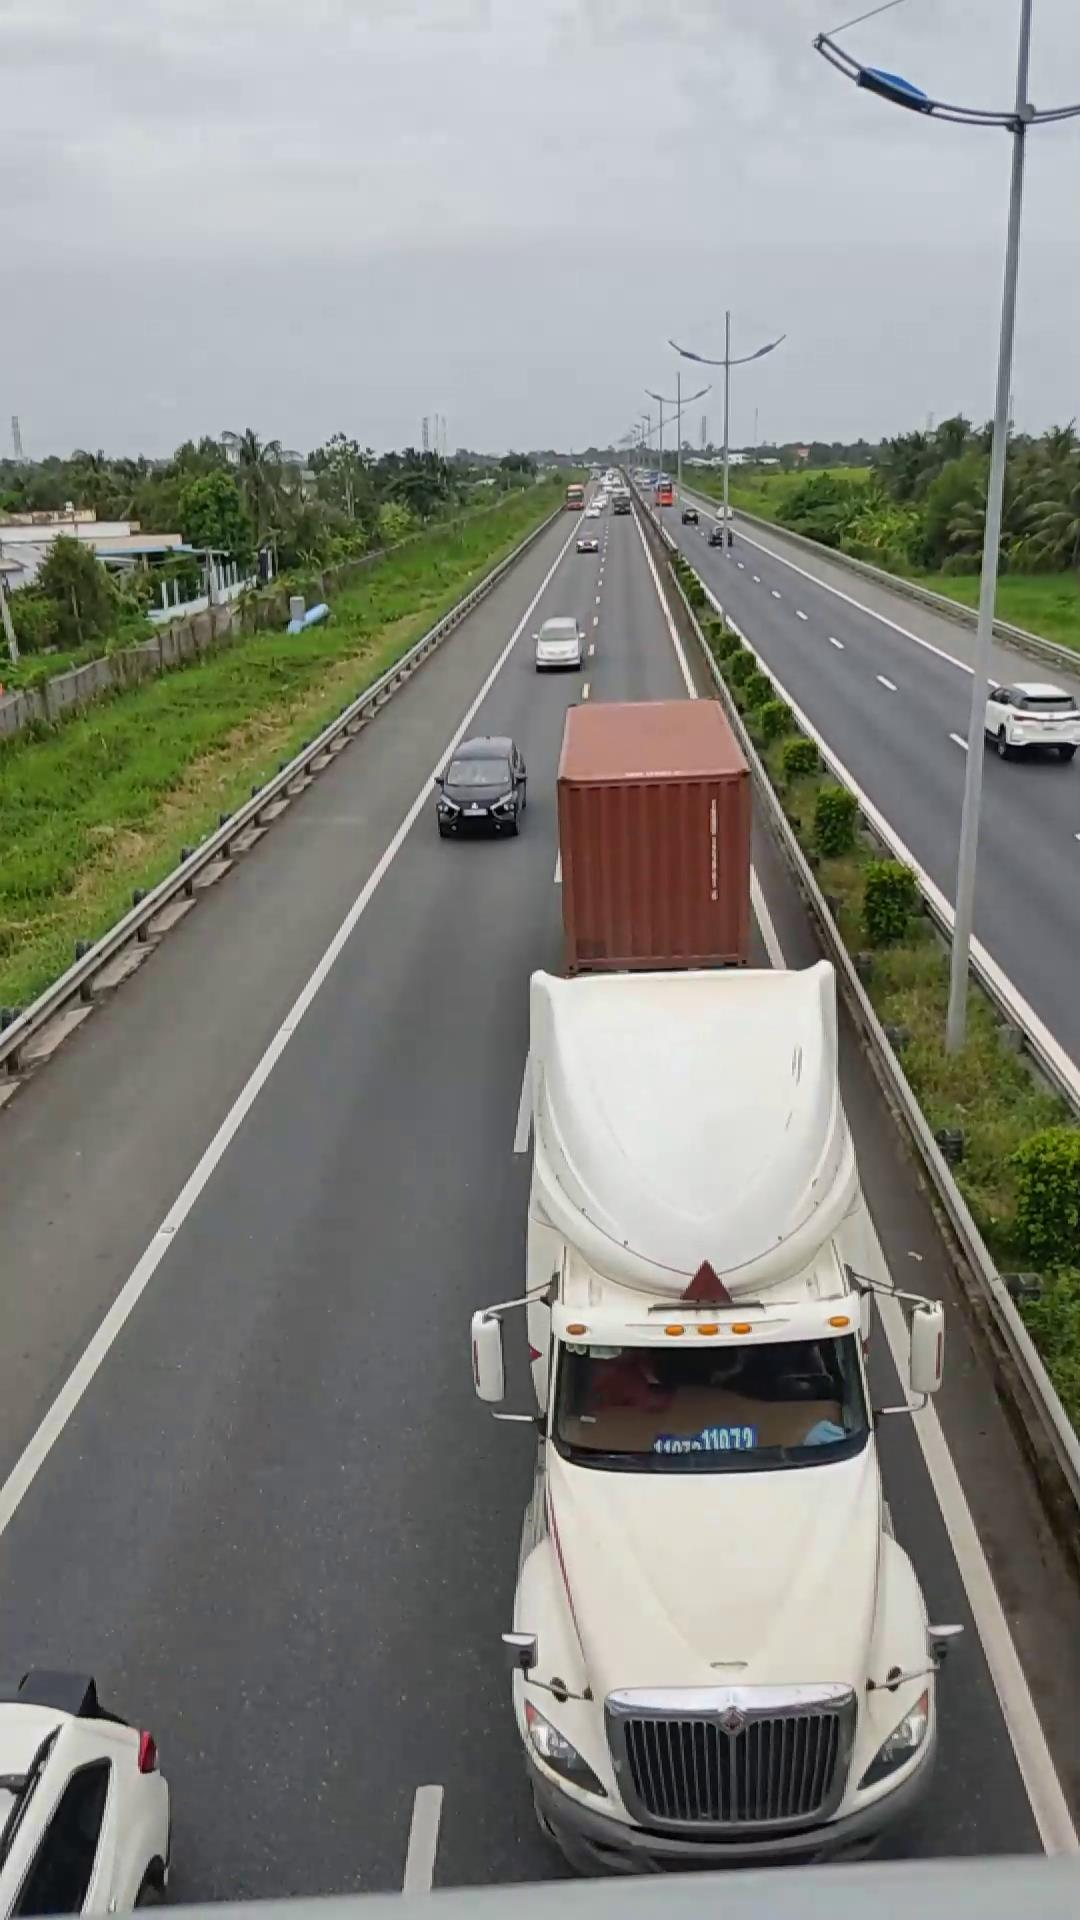car: (0, 1692, 175, 1914), (432, 734, 530, 836), (980, 676, 1078, 761)
truck: (495, 702, 943, 1860)
